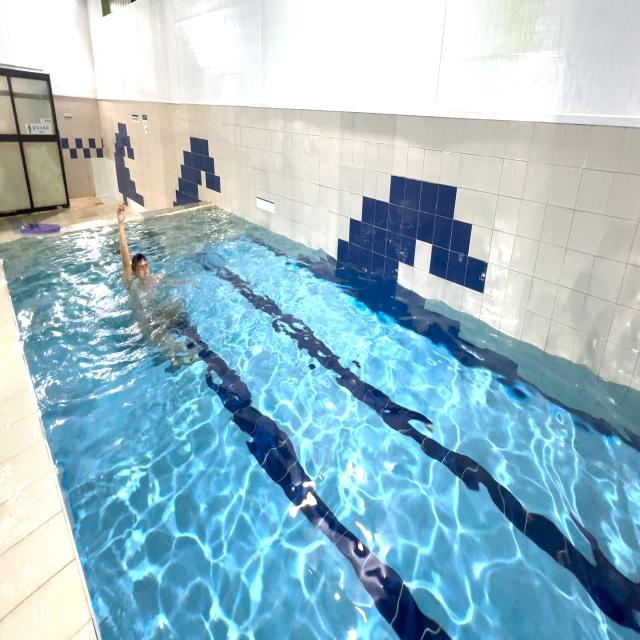Drowning: (92, 189, 214, 399)
